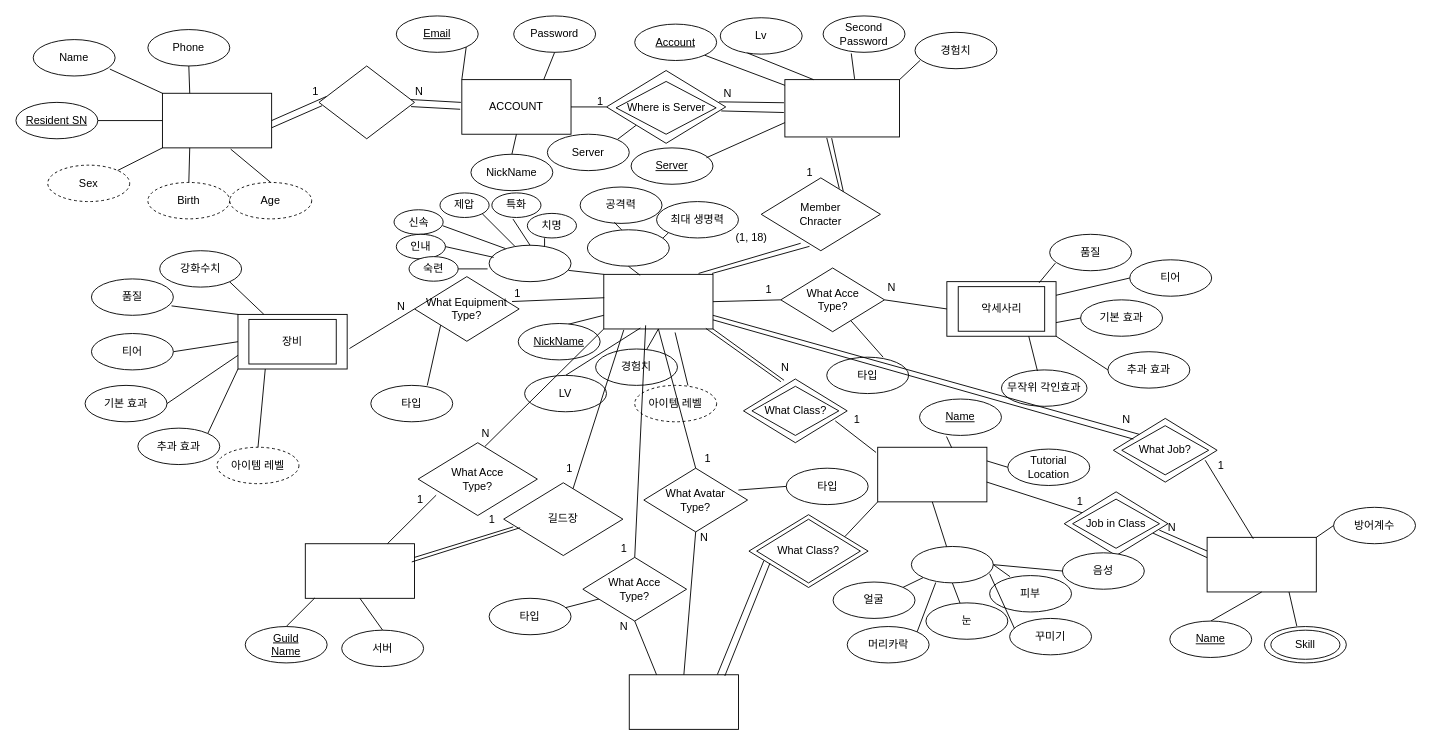
The diagram is 1431 pixels wide and 745 high, and some of its shapes have lost their labels. Here are the shapes that lost their labels. From the top down, the centre of each, then its label:
At pixel 217 120: "PERSONAL".
At pixel 366 102: "LOGIN".
At pixel 842 108: "EXPEDITION (원정대 - 서버와 계정이 같으면 공유되는 자원이 존재)".
At pixel 529 263: "전투 특성".
At pixel 627 247: "기본 특성".
At pixel 658 301: "CHRACTER".
At pixel 932 474: "CLASS".
At pixel 359 570: "길드".
At pixel 951 564: "외형".
At pixel 1261 564: "직업".
At pixel 683 701: "Avatar".
